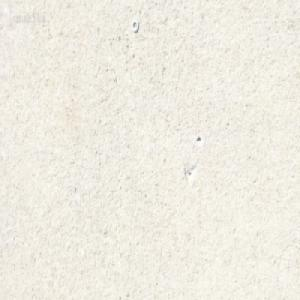Washer: (131, 18, 138, 33)
